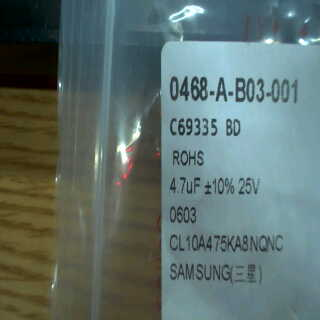4.7uF: (164, 169, 204, 200)
